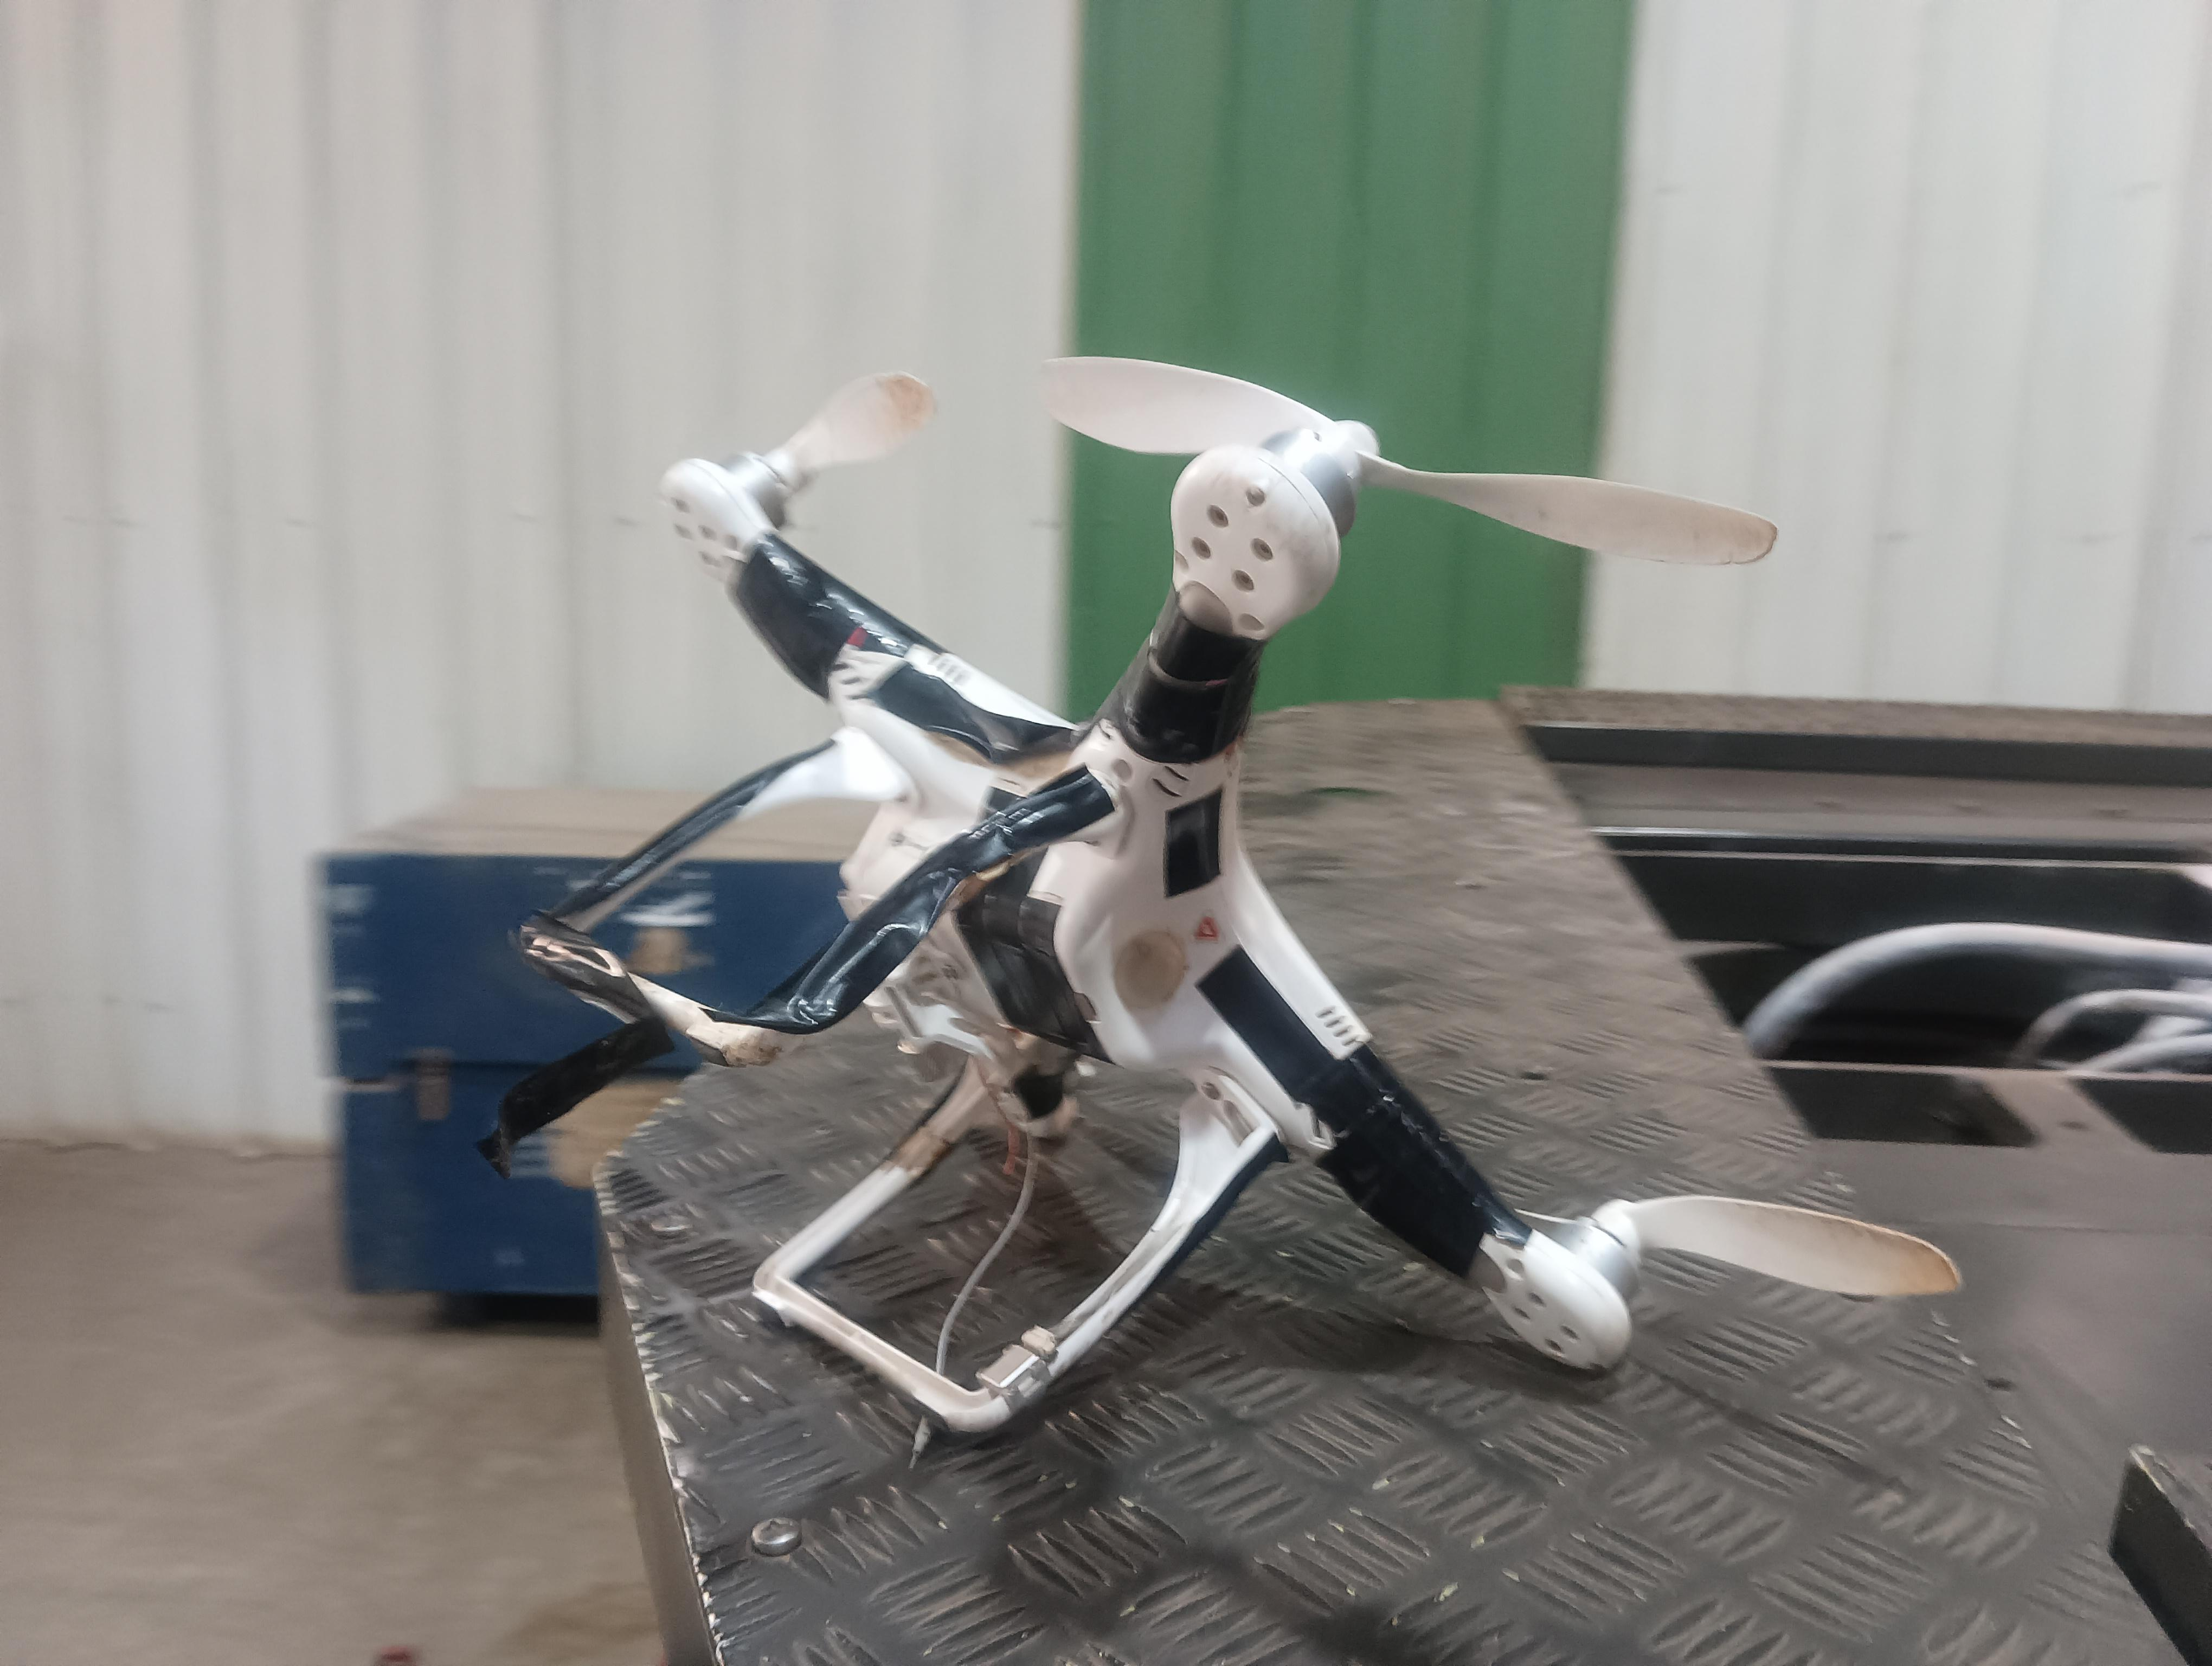drone: (570, 332, 1989, 1554)
